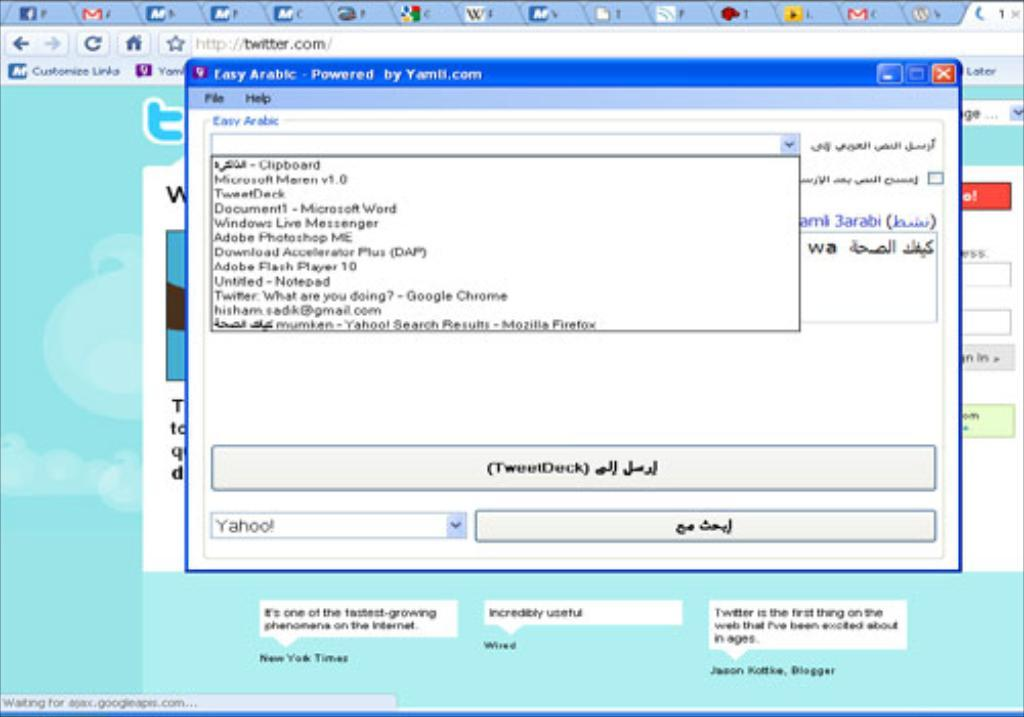Computer-monitor: (0, 0, 1022, 711)
